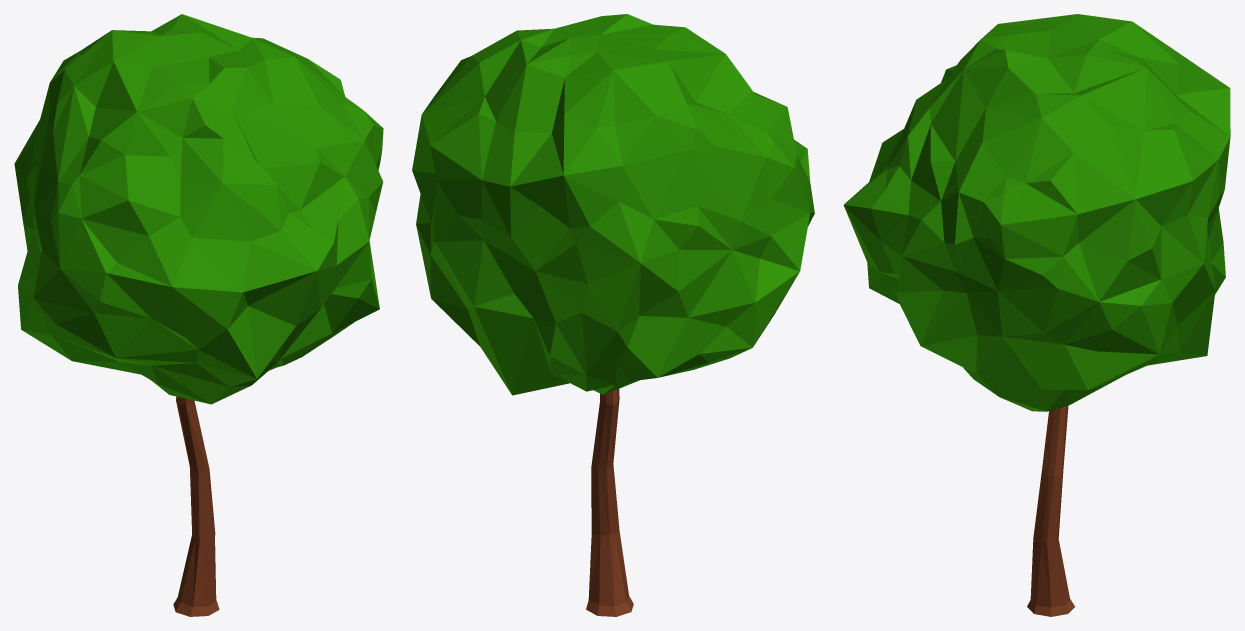
The model's file is Tree_small.glb.
3 renders of one model, left to right at view 1: azimuth 30°, elevation 25°; view 2: azimuth 150°, elevation 25°; view 3: azimuth 270°, elevation 25°, orthographic. The views are drawn at different scales.
Visible parts, largest first — view 1: Tree.1; view 2: Tree.1; view 3: Tree.1.
Boxes of the visible parts, x1,y1,x2,y2 form: Tree.1: [14, 14, 383, 616]; Tree.1: [412, 14, 814, 616]; Tree.1: [843, 14, 1230, 616].
Size of the model in its own units: 3.04 by 4.77 by 2.97.
